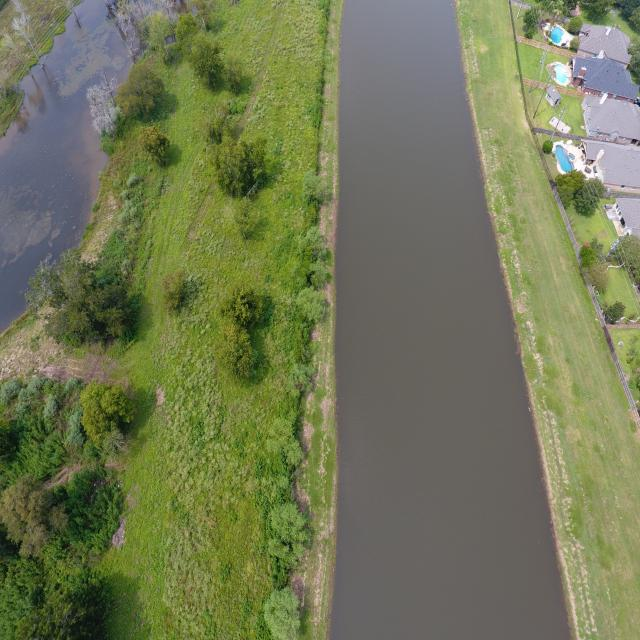fire: (331, 0, 571, 639), (0, 0, 132, 332)
